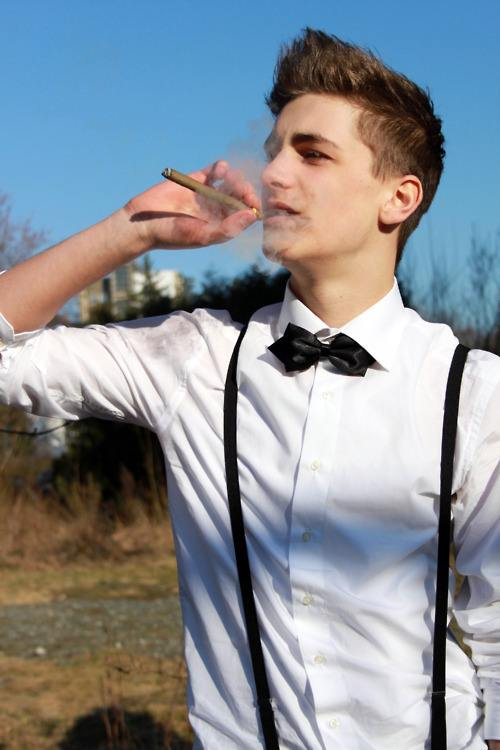person: (69, 34, 500, 736)
